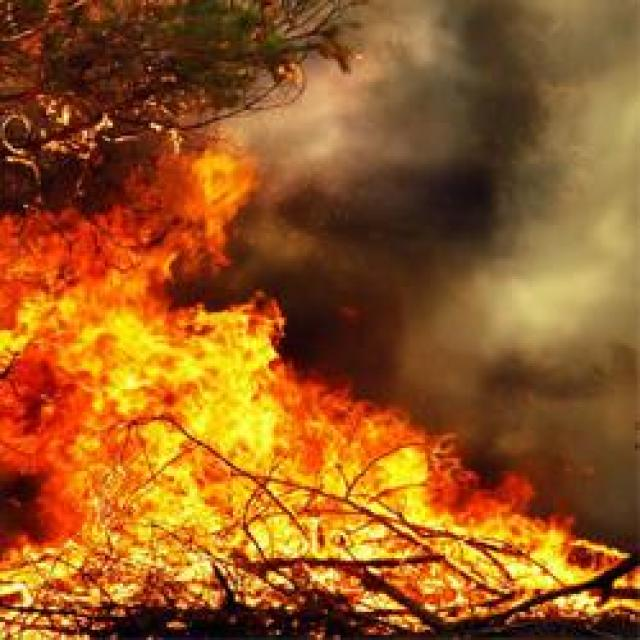fire: (0, 174, 621, 621)
